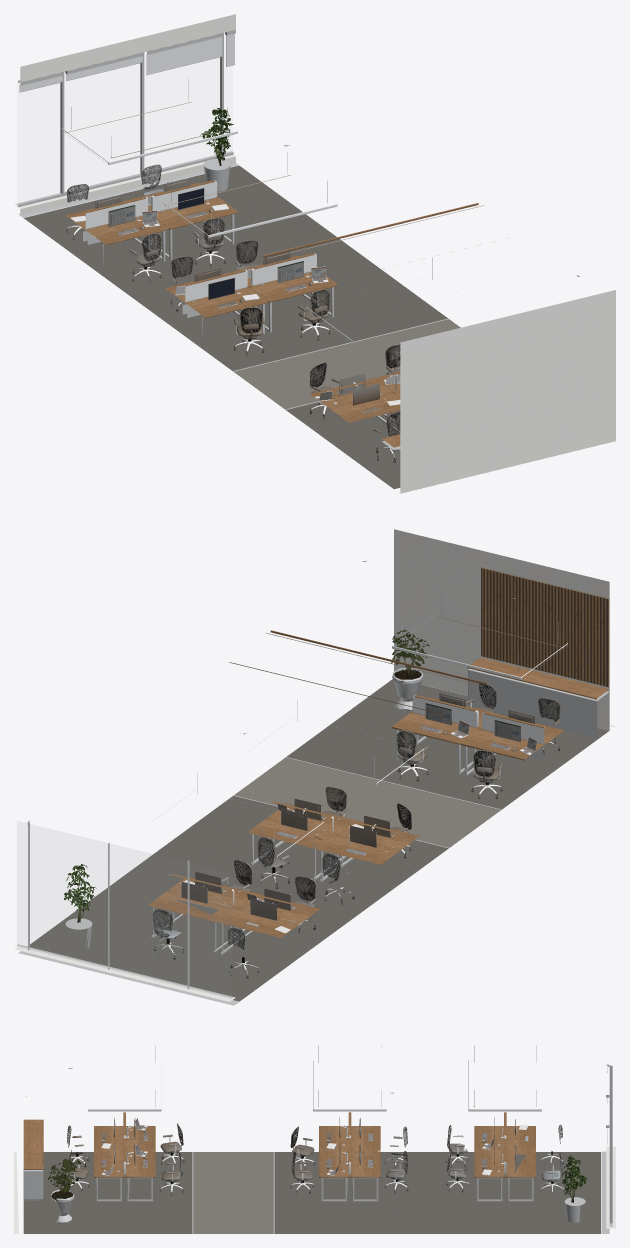
The model's file is z-open_c-lite.full.c29cc68c.glb.
3 renders of one model, top to bottom at view 1: azimuth 30°, elevation 25°; view 2: azimuth 150°, elevation 25°; view 3: azimuth 270°, elevation 25°, orthographic. The views are drawn at different scales.
Parts seen in each view (by area): view 1: open_c_carpet, open_c_plaster, open_c_satin, open_c_fx, open_c_oak, open_c_emit, open_c_metal_lit, open_c_veg_atlas; view 2: open_c_carpet, open_c_plaster, open_c_oak, open_c_satin, open_c_fx, open_c_proxy_slat, open_c_veg_atlas, open_c_emit, open_c_metal_lit; view 3: open_c_carpet, open_c_oak, open_c_satin, open_c_fx, open_c_metal_lit, open_c_veg_atlas, open_c_plaster.
Part boxes in pixels (box(x1,y1,x2,y2)): open_c_carpet: box(24, 165, 460, 488); open_c_plaster: box(14, 14, 615, 493); open_c_satin: box(16, 30, 579, 449); open_c_fx: box(66, 164, 400, 462); open_c_oak: box(65, 180, 478, 447); open_c_emit: box(65, 102, 483, 341); open_c_metal_lit: box(23, 145, 400, 456); open_c_veg_atlas: box(200, 108, 233, 165); open_c_carpet: box(27, 679, 609, 1002); open_c_plaster: box(14, 529, 615, 1001); open_c_oak: box(148, 630, 609, 937); open_c_satin: box(16, 560, 608, 1005); open_c_fx: box(152, 683, 560, 978); open_c_proxy_slat: box(481, 568, 608, 687); open_c_veg_atlas: box(64, 630, 429, 922); open_c_emit: box(266, 566, 607, 857); open_c_metal_lit: box(156, 696, 558, 1001); open_c_carpet: box(23, 1152, 600, 1233); open_c_oak: box(23, 1112, 535, 1177); open_c_satin: box(23, 1045, 612, 1233); open_c_fx: box(65, 1117, 564, 1195); open_c_metal_lit: box(67, 1092, 601, 1233); open_c_veg_atlas: box(48, 1155, 587, 1202); open_c_plaster: box(14, 1146, 615, 1233).
Bounding box in the file's own units: 5 × 3.35 × 15.5.
Materials: 10 (7 with a texture image).
